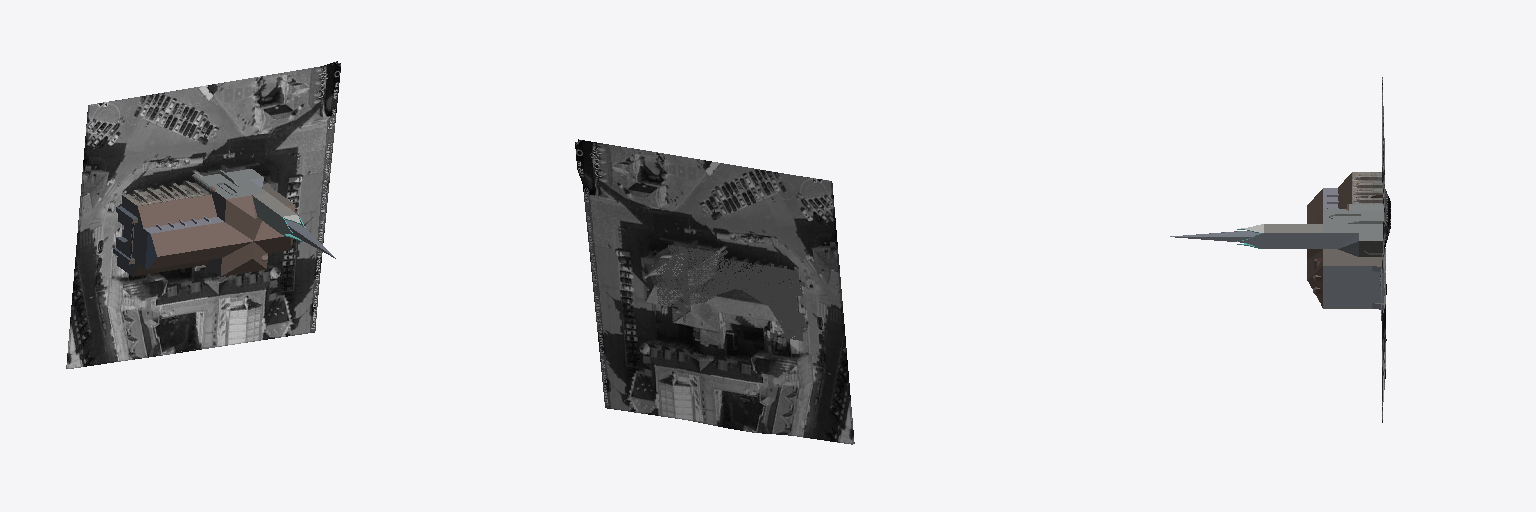
3 renders of one model, left to right at view 1: azimuth 30°, elevation 25°; view 2: azimuth 150°, elevation 25°; view 3: azimuth 270°, elevation 25°, orthographic.
Visible parts, largest first — view 1: Google Earth Terrain, Fraumu-nster, Google Earth Snapshot; view 2: Google Earth Snapshot, Google Earth Terrain, Fraumu-nster; view 3: Fraumu-nster, Google Earth Terrain.
Boxes of the visible parts, x1=… form: Google Earth Terrain: x1=67, y1=61, x2=337, y2=368; Fraumu-nster: x1=113, y1=169, x2=335, y2=276; Google Earth Snapshot: x1=66, y1=63, x2=340, y2=368; Google Earth Snapshot: x1=578, y1=139, x2=852, y2=444; Google Earth Terrain: x1=575, y1=142, x2=854, y2=443; Fraumu-nster: x1=651, y1=245, x2=807, y2=340; Fraumu-nster: x1=1170, y1=172, x2=1383, y2=309; Google Earth Terrain: x1=1380, y1=77, x2=1390, y2=422.
Bounding box in the file's own units: 171615 × 168039 × 119886.
Materials: 48 (7 with a texture image).